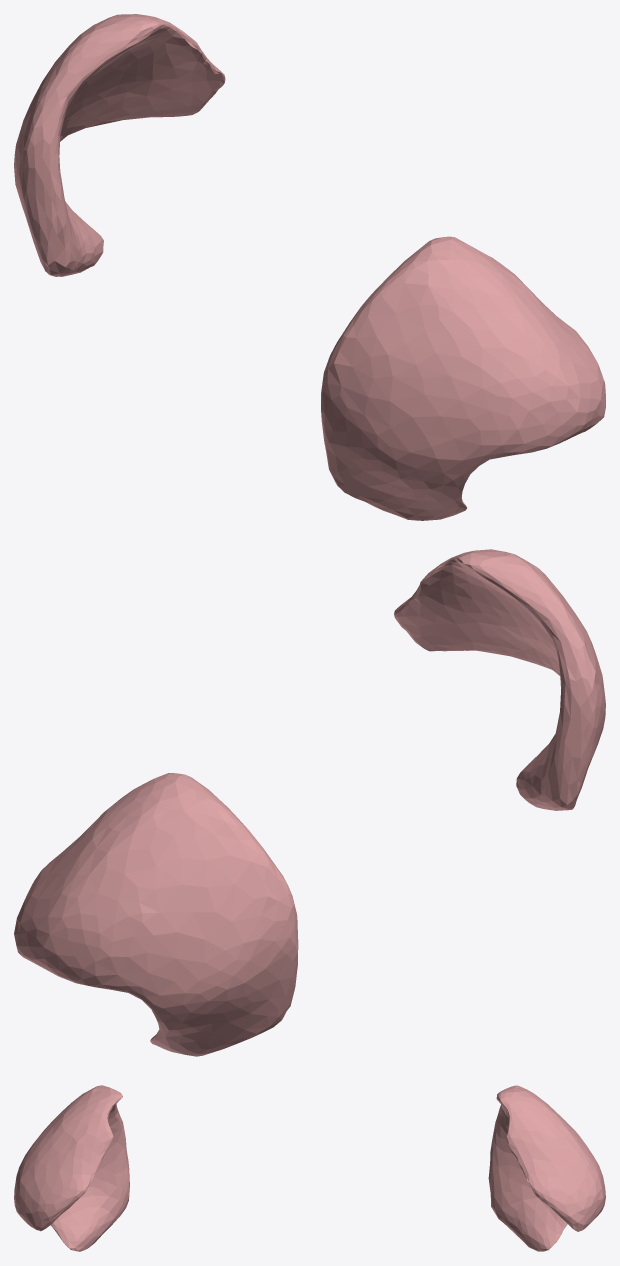
3 views of the same model, one above another, from view 1: azimuth 30°, elevation 25°; view 2: azimuth 150°, elevation 25°; view 3: azimuth 270°, elevation 25° (orthographic). The views are drawn at different scales.
Parts seen in each view (by area): view 1: 718.obj; view 2: 718.obj; view 3: 718.obj.
Boxes of the visible parts, x1,y1,x2,y2 form: 718.obj: (14, 14, 605, 520); 718.obj: (14, 549, 605, 1056); 718.obj: (14, 1085, 605, 1251).
Size of the model in its own units: 1470 by 1539 by 4927.
